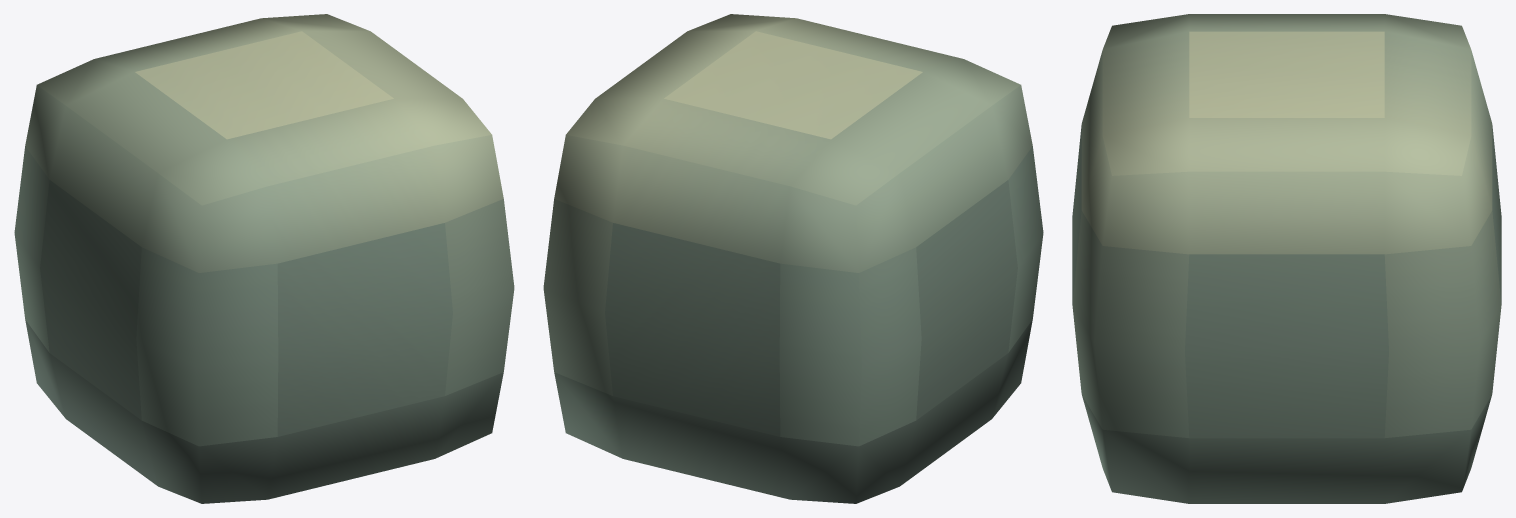
The model's file is block_stone1_1_tiny_LOD_group.fbx.
3 renders of one model, left to right at view 1: azimuth 30°, elevation 25°; view 2: azimuth 150°, elevation 25°; view 3: azimuth 270°, elevation 25°, orthographic. The views are drawn at different scales.
Parts seen in each view (by area): view 1: block_stone1_1_tiny_LOD0; view 2: block_stone1_1_tiny_LOD0; view 3: block_stone1_1_tiny_LOD0.
Part boxes in pixels (x1,y1,x2,y2): block_stone1_1_tiny_LOD0: [14, 14, 514, 503]; block_stone1_1_tiny_LOD0: [543, 14, 1043, 503]; block_stone1_1_tiny_LOD0: [1072, 14, 1501, 503].
Size of what is drawn, in the model's own units: 31.87 by 30 by 31.68.
1 material, 1 textured.
